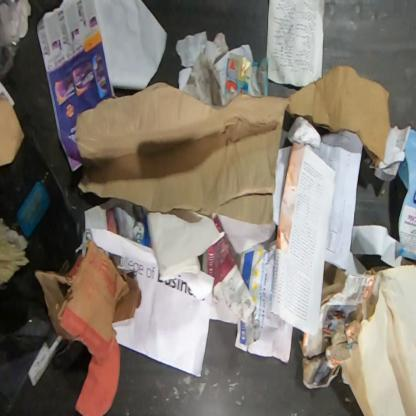cardboard: (75, 82, 290, 225), (34, 242, 143, 415), (286, 64, 391, 168), (0, 92, 25, 168)
soft_plastic: (0, 0, 32, 81)
